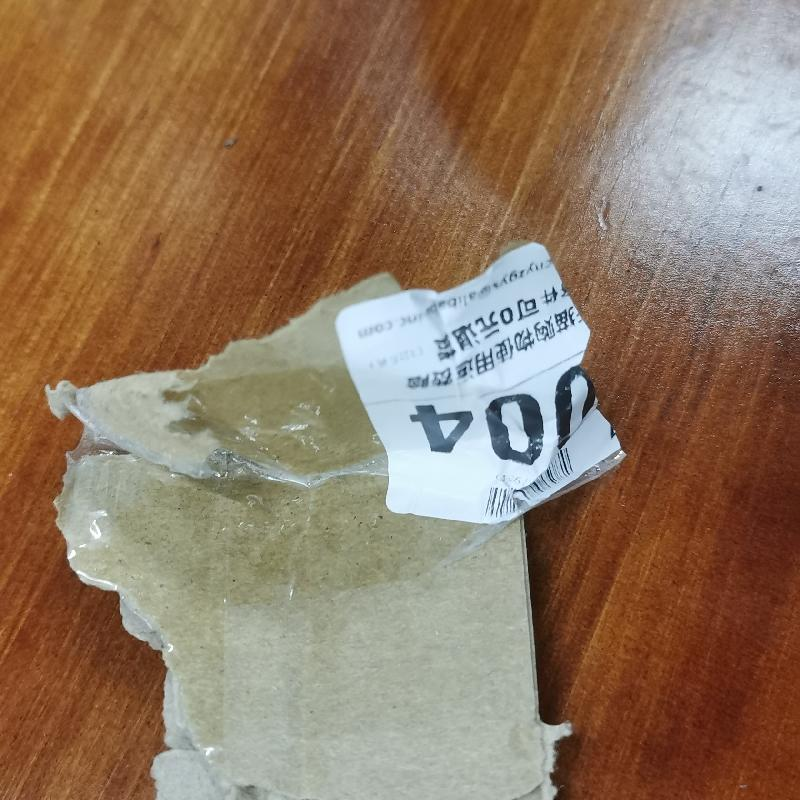boxes: (27, 242, 618, 800)
